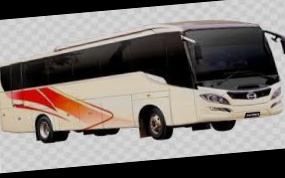bus: (0, 12, 285, 154)
